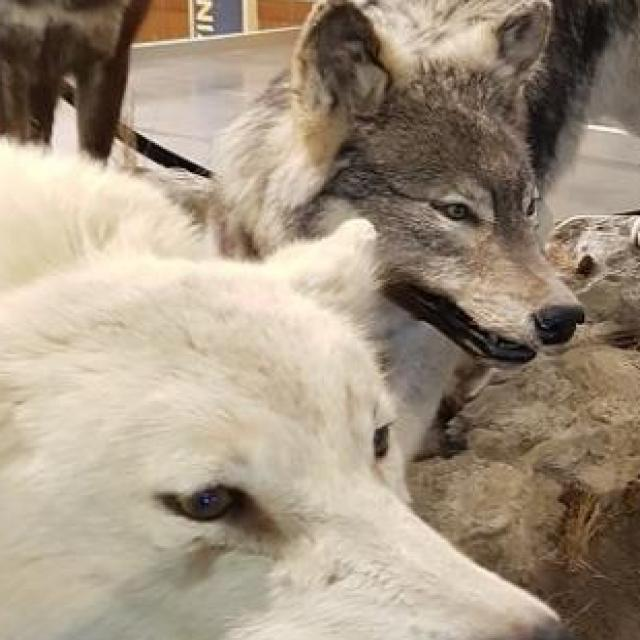wolf: (0, 35, 615, 640), (179, 0, 640, 475), (0, 0, 173, 203)
